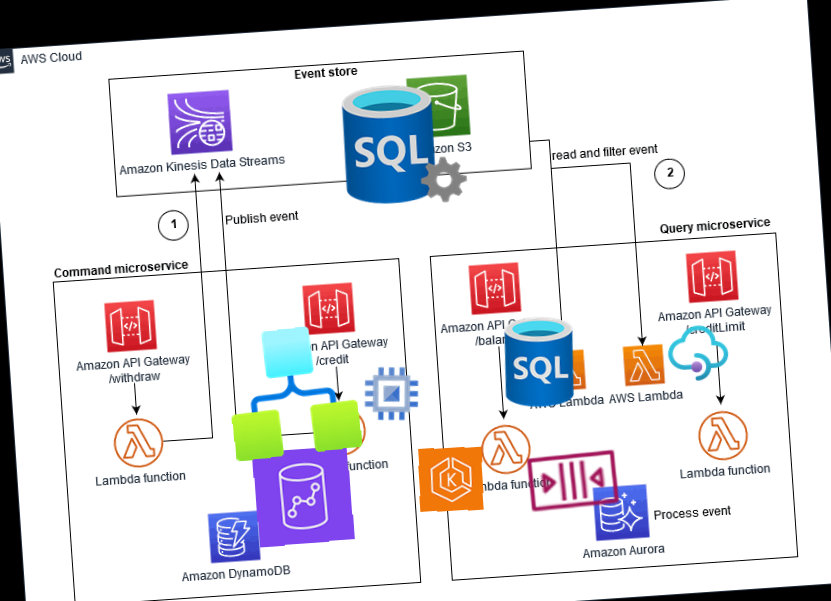aws_amazon_elastic_kubernetes_service: (415, 443, 486, 514)
aws_amazon_redshift: (250, 443, 356, 548)
aws_simple_queue_service_queue: (520, 427, 625, 532)
azure_api_management_services: (663, 318, 732, 387)
azure_logic_apps: (220, 320, 363, 462)
azure_sql_database: (485, 308, 592, 415)
azure_sql_server: (335, 76, 472, 212)
gcp_compute_engine: (354, 356, 428, 430)
